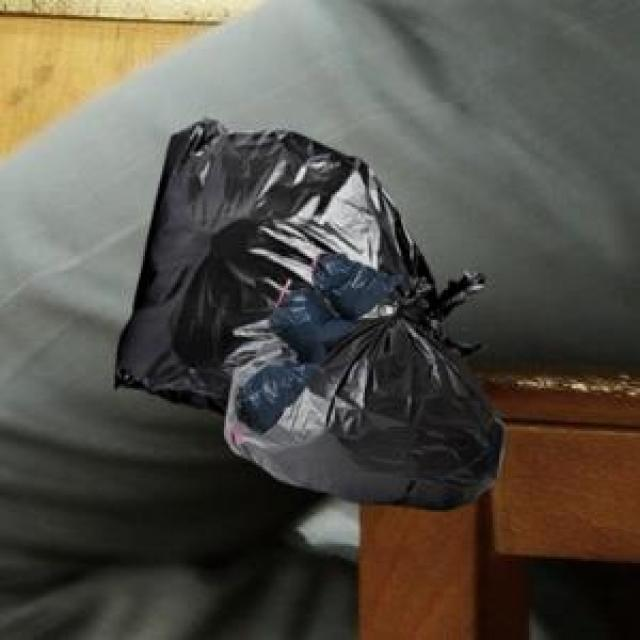waste: (116, 120, 500, 508)
